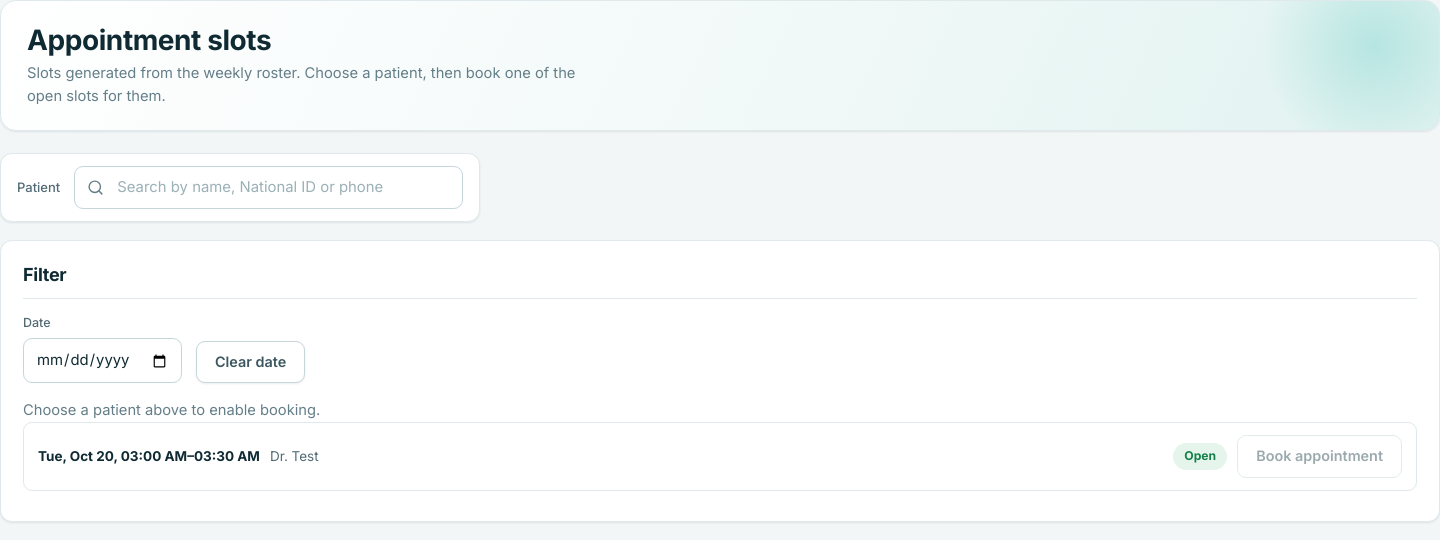
Test case: SlotsPage patient selection › changing the patient disables booking again
Focus the dropdown at (269, 187), box [74,166,463,209]
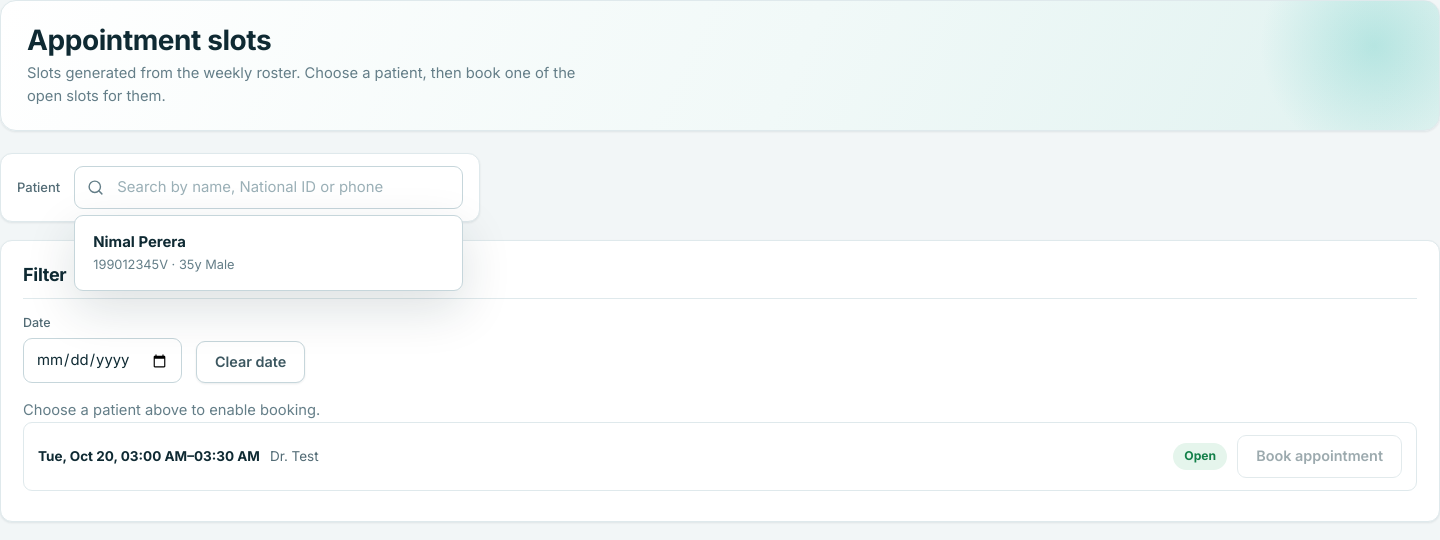
Press the mouse on the option "Nimal Perera 199012345V · 35y Male" at (164, 252), box [93,233,234,272]
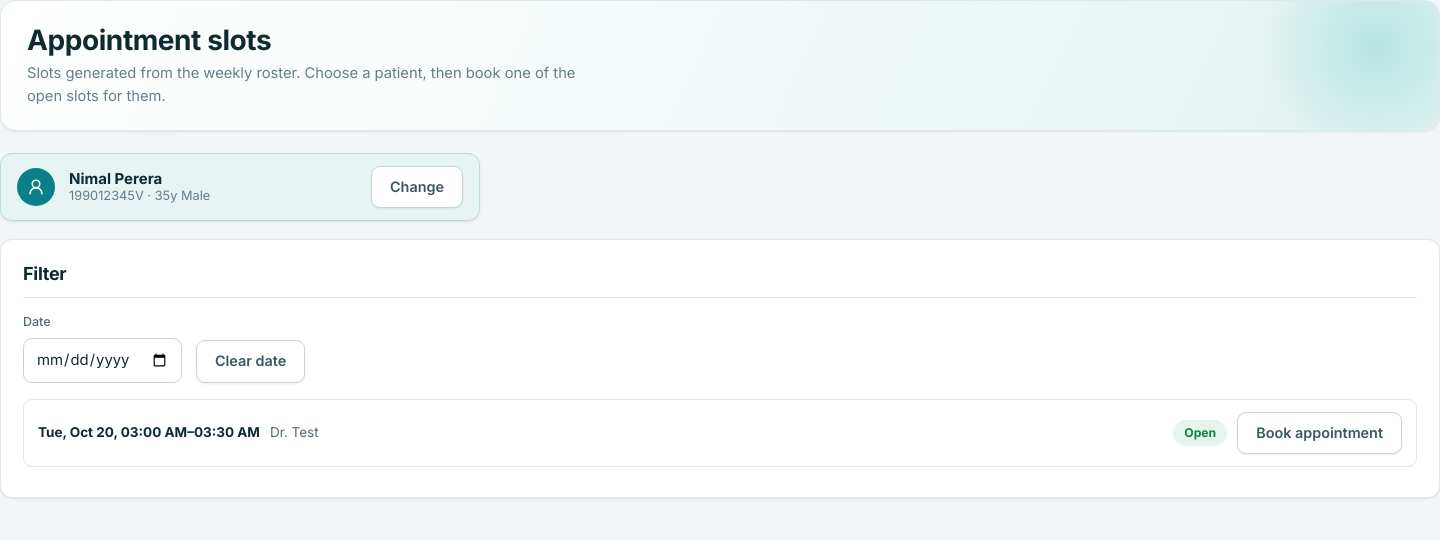
Result: the button "Book appointment" is enabled at [1237,412,1402,454]
Click the button "Change".
click(417, 187)  # box [371,166,463,208]
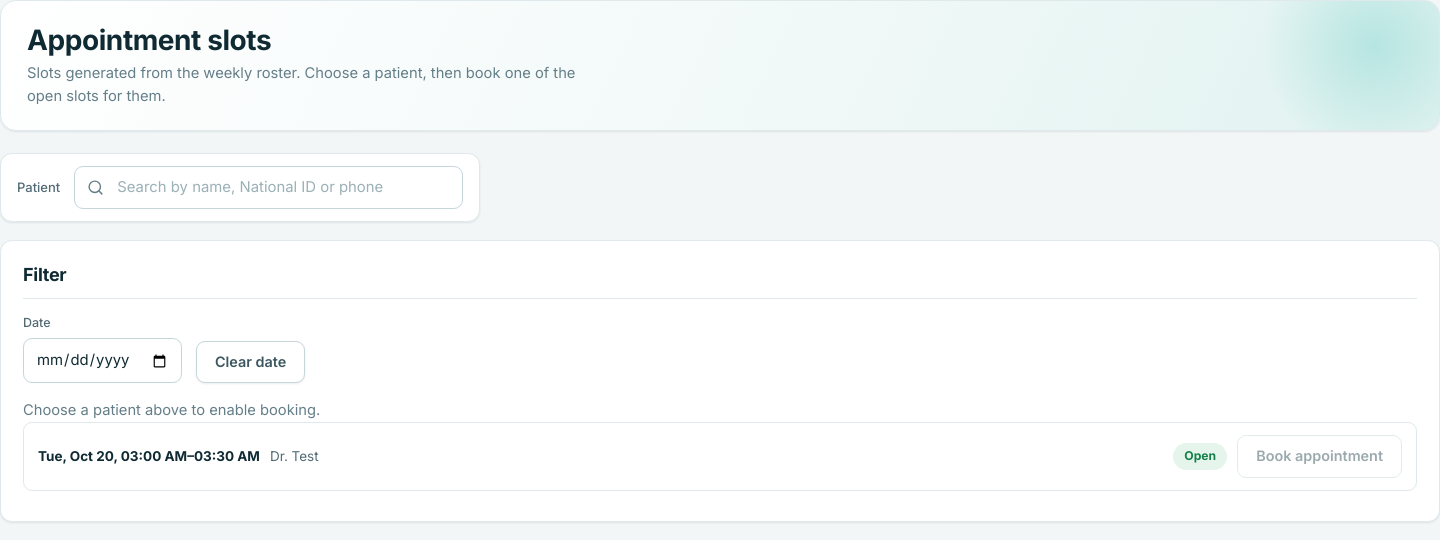
Result: the button "Book appointment" is disabled at [1237,435,1402,478]
